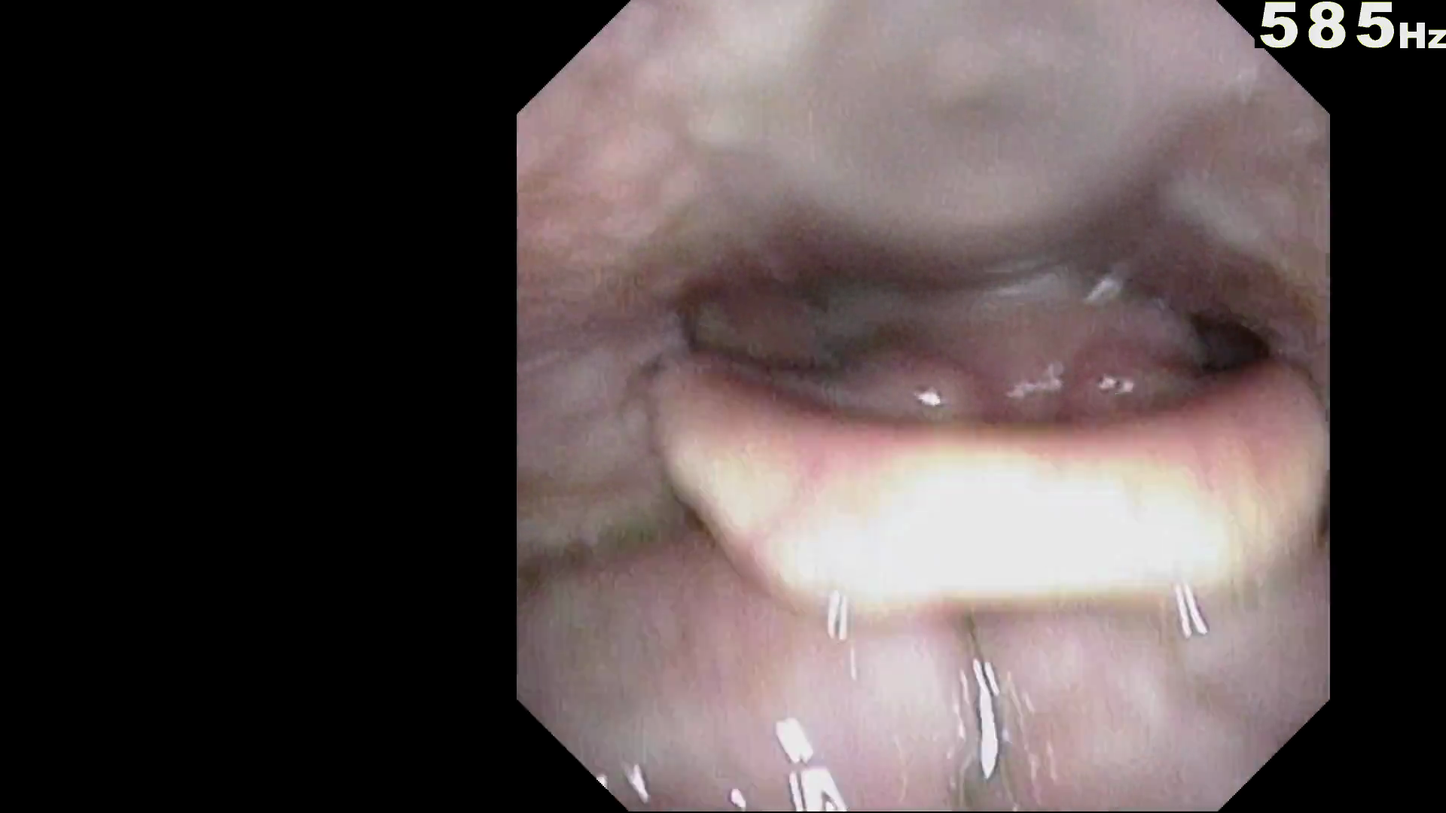epiglottis: (654, 335, 1330, 636)
